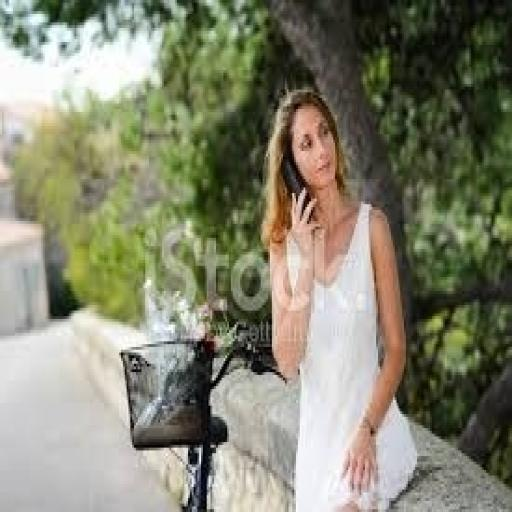calling: (261, 84, 419, 509)
